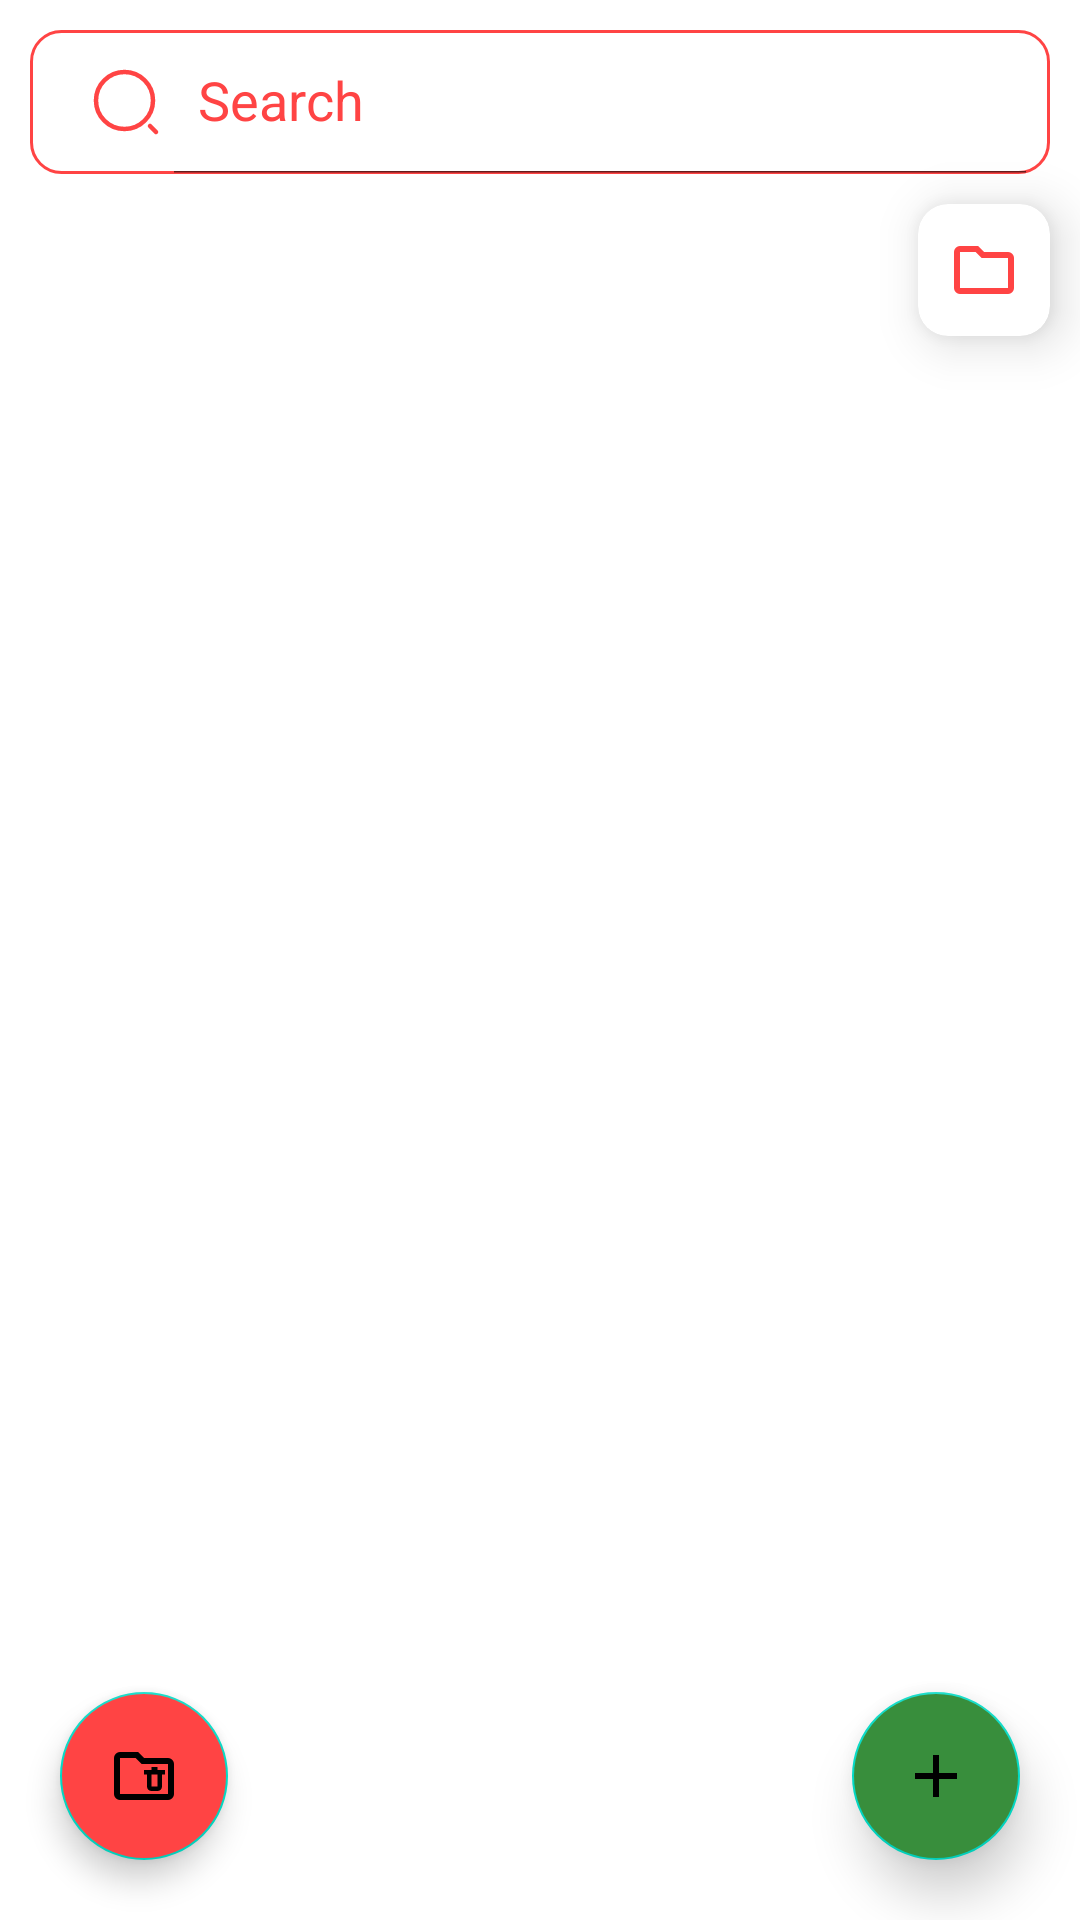

Named icons in this screenshot (1080 × 1920) and their bounding boxes, Rect(x1, y1, x2, y2):
add: Rect(852, 1692, 1020, 1860)
folder: Rect(954, 246, 1014, 294)
folder delete: Rect(60, 1692, 228, 1860)
